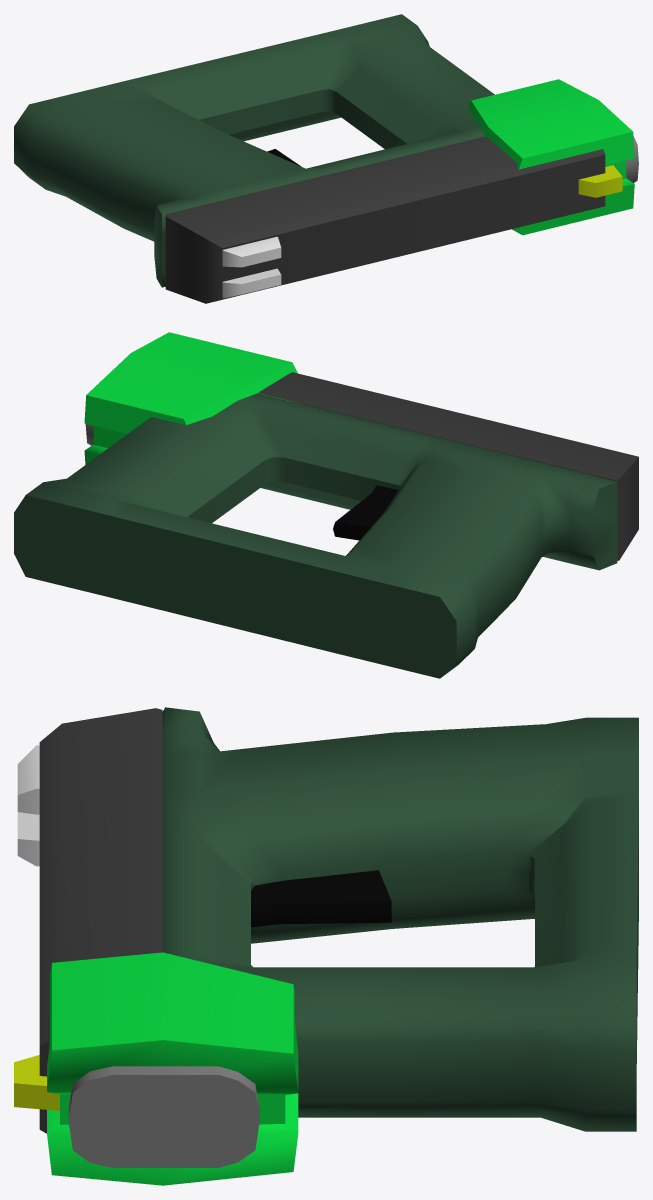
File: SimpleSafetyGun.glb
3 views of the same model, one above another, from view 1: azimuth 30°, elevation 25°; view 2: azimuth 150°, elevation 25°; view 3: azimuth 270°, elevation 25° (orthographic). The views are drawn at different scales.
Parts seen in each view (by area): view 1: SimpleSafetyGun; view 2: SimpleSafetyGun; view 3: SimpleSafetyGun.
Boxes of the visible parts, left/top/right/bottom form: SimpleSafetyGun: left=14, top=14, right=638, bottom=303; SimpleSafetyGun: left=14, top=332, right=638, bottom=678; SimpleSafetyGun: left=14, top=707, right=638, bottom=1185.
Size of the model in its own units: 0.1003 by 0.0191 by 0.0743.
